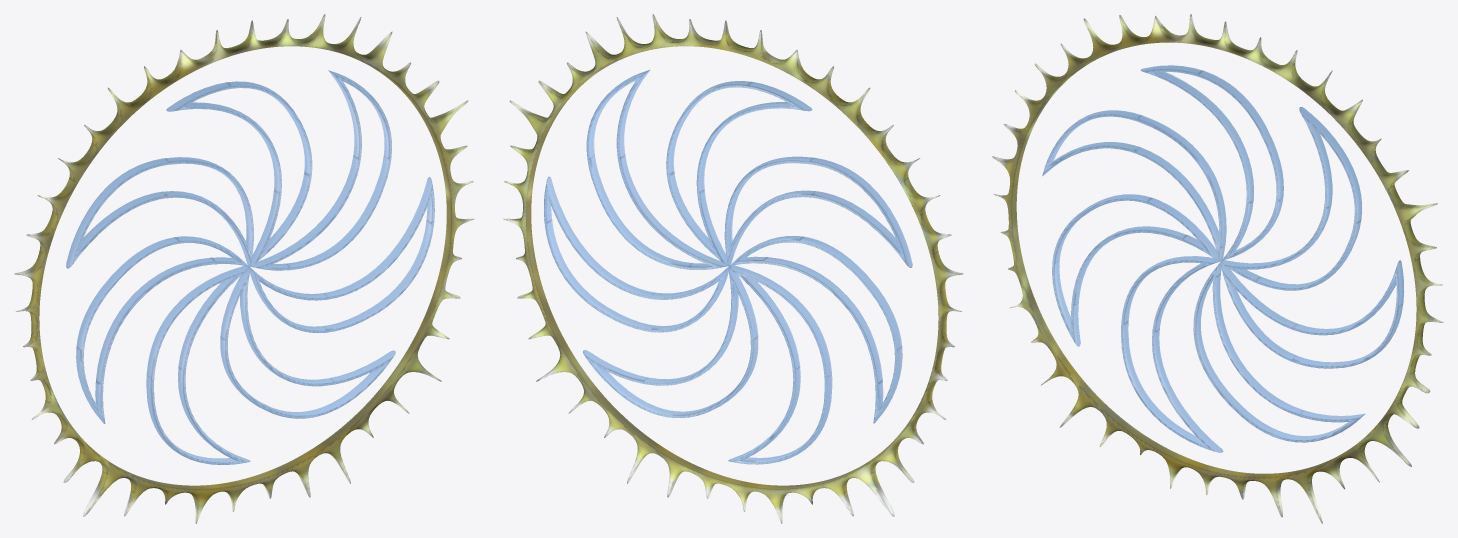
The model's file is borjghali updated.fbx.
3 views of the same model, side by side, from view 1: azimuth 30°, elevation 25°; view 2: azimuth 150°, elevation 25°; view 3: azimuth 330°, elevation 25° (orthographic).
Visible parts, largest first — view 1: outline_1; view 2: outline_1; view 3: outline_1.
Boxes of the visible parts, x1=… form: outline_1: x1=14, y1=14, x2=474, y2=523; outline_1: x1=503, y1=14, x2=963, y2=523; outline_1: x1=992, y1=14, x2=1443, y2=523.
Bounding box in the file's own units: 29.11 × 29.73 × 0.8006.
